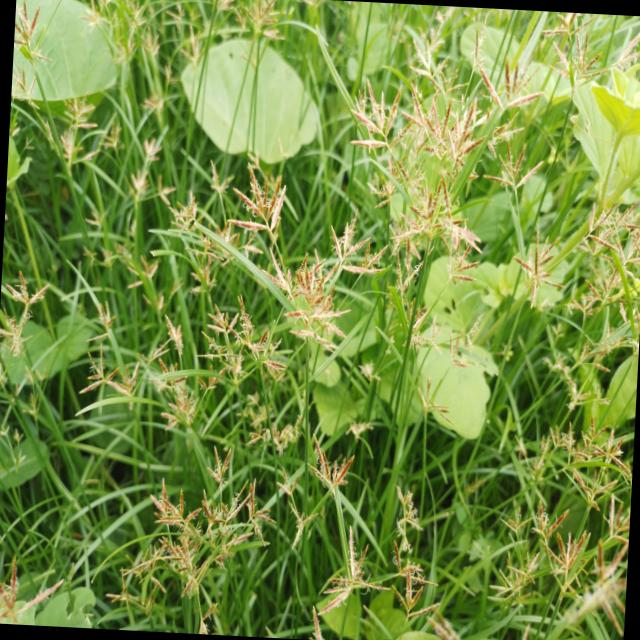cyperus: (338, 68, 492, 356), (224, 159, 350, 363), (132, 434, 276, 602), (526, 421, 635, 618), (7, 0, 105, 172), (294, 431, 387, 601), (573, 202, 640, 380), (156, 157, 239, 296), (87, 293, 162, 412), (544, 11, 640, 88), (483, 497, 548, 610), (198, 301, 276, 393), (386, 488, 436, 612), (154, 314, 207, 430), (236, 390, 306, 460), (0, 554, 67, 626), (0, 274, 51, 357), (206, 0, 290, 49), (486, 61, 548, 119), (508, 228, 560, 296), (275, 462, 318, 544), (130, 134, 173, 208), (406, 20, 449, 84), (84, 207, 126, 268), (410, 374, 458, 426), (494, 144, 538, 200), (95, 120, 130, 174), (137, 87, 174, 129), (128, 247, 160, 294), (138, 22, 160, 58)
